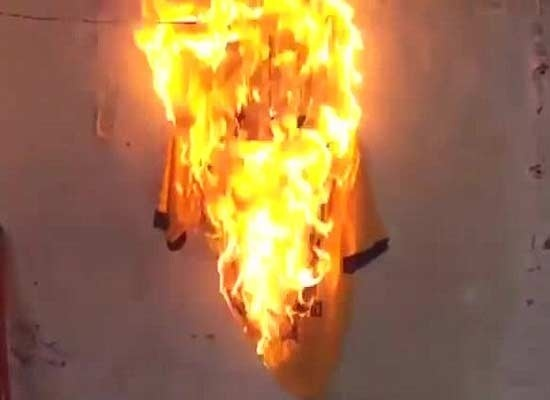fire: (139, 10, 381, 365)
